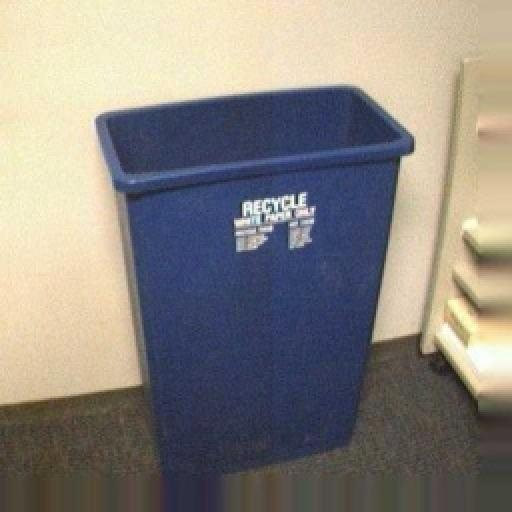trash-can: (80, 58, 420, 486)
